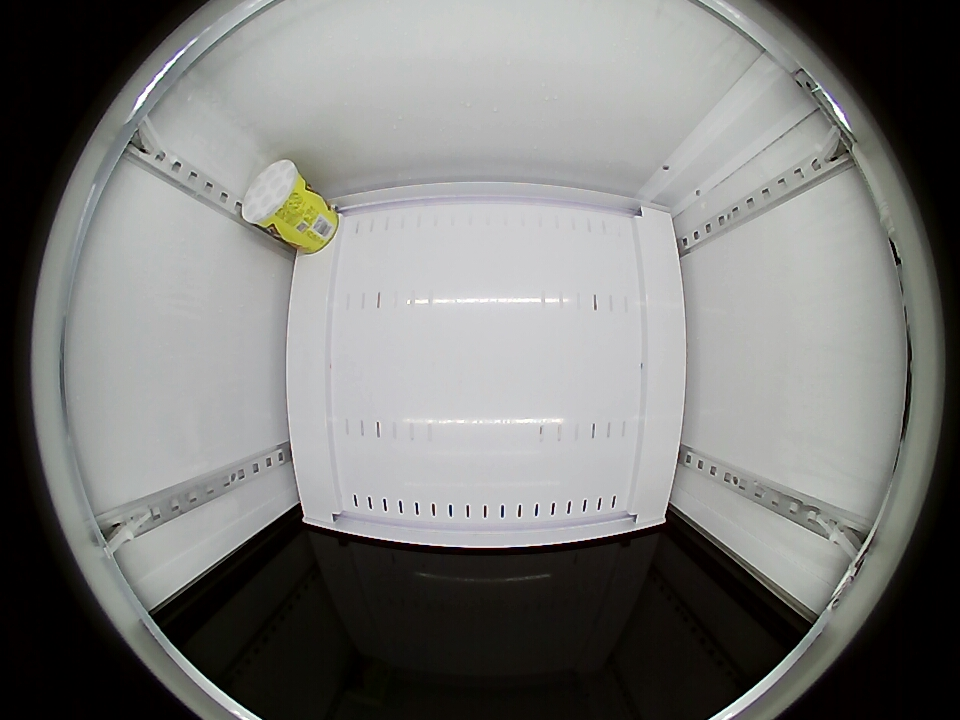kebike: (241, 159, 310, 234)
